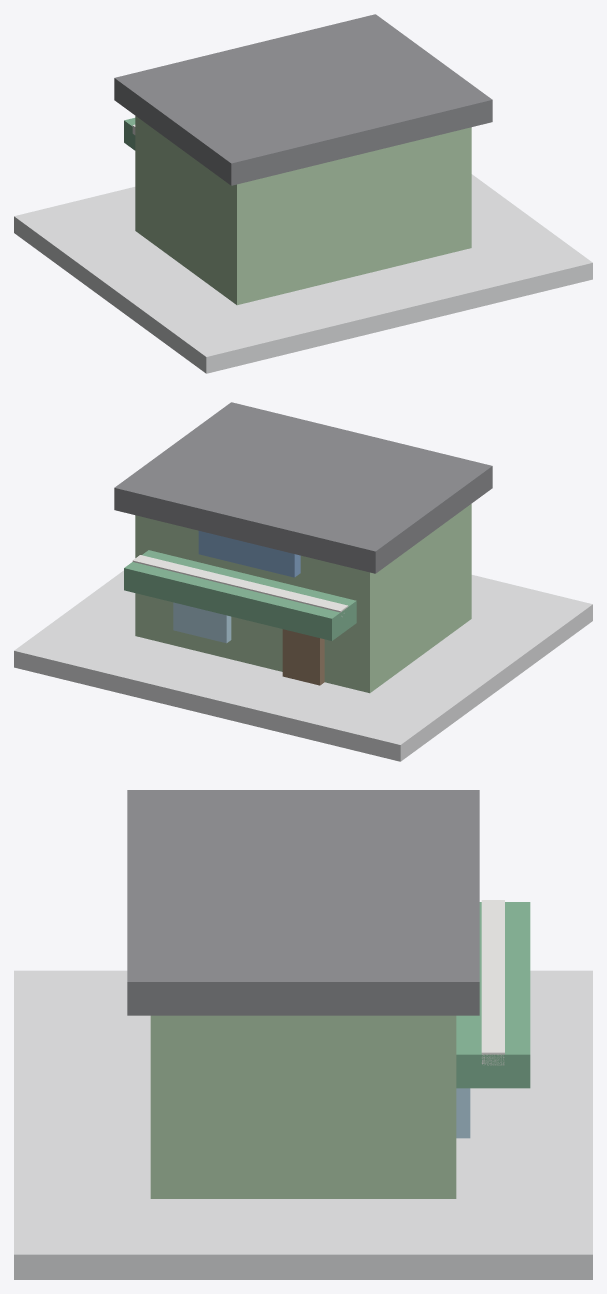
File: shop_small.glb
3 renders of one model, top to bottom at view 1: azimuth 30°, elevation 25°; view 2: azimuth 150°, elevation 25°; view 3: azimuth 270°, elevation 25°, orthographic. The views are drawn at different scales.
Parts seen in each view (by area): view 1: base, body, roof; view 2: base, roof, body, awning, sign, door, stripe, window; view 3: base, roof, body, awning, stripe, window.
Boxes of the visible parts, bbox=[...] form: base: bbox=[14, 174, 592, 373]; body: bbox=[135, 116, 471, 305]; roof: bbox=[114, 14, 492, 185]; base: bbox=[14, 570, 592, 761]; roof: bbox=[114, 402, 492, 573]; body: bbox=[135, 504, 471, 693]; awning: bbox=[124, 550, 356, 640]; sign: bbox=[198, 531, 300, 577]; door: bbox=[282, 629, 324, 685]; stripe: bbox=[132, 555, 348, 616]; window: bbox=[173, 602, 231, 643]; base: bbox=[14, 970, 592, 1279]; roof: bbox=[127, 790, 479, 1015]; body: bbox=[150, 1015, 456, 1198]; awning: bbox=[456, 902, 530, 1088]; stripe: bbox=[481, 900, 504, 1065]; window: bbox=[456, 1088, 470, 1138].
Size of the model in its own units: 1.45 by 0.6 by 1.25.
